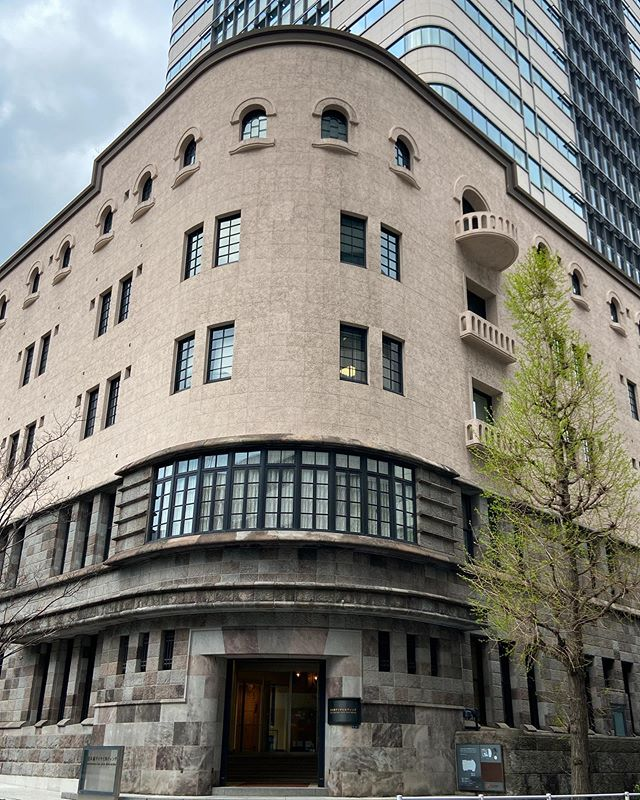building: (13, 124, 640, 800), (175, 1, 637, 277)
door: (210, 654, 337, 777)
